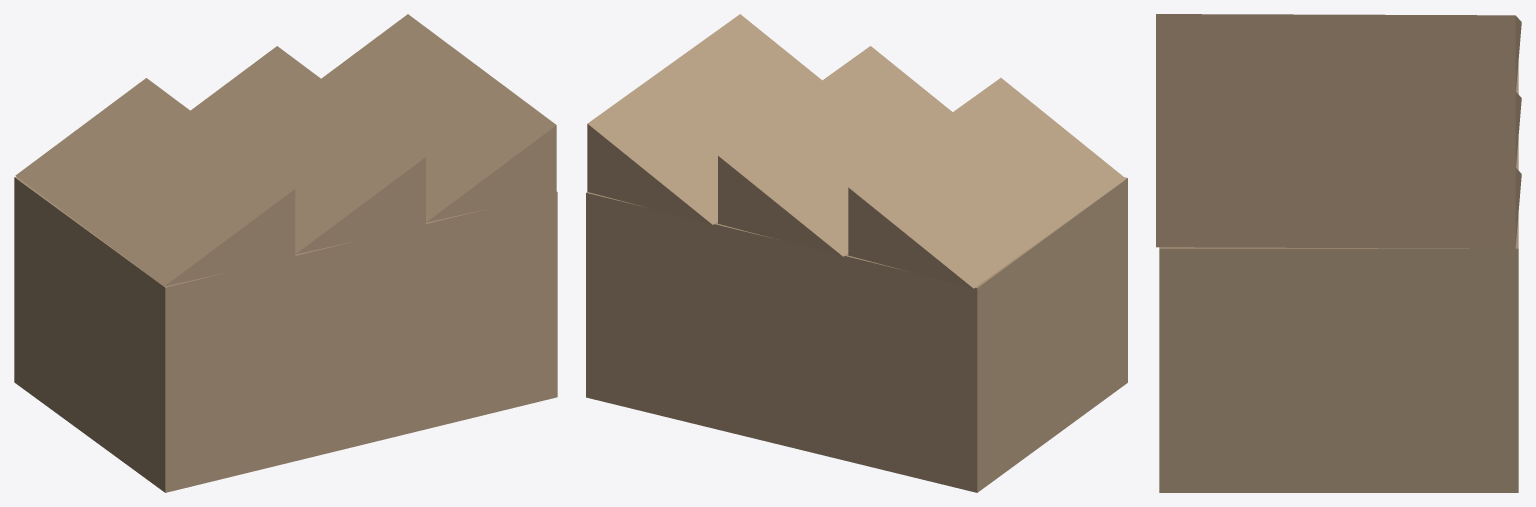
File: Manufactorum.glb
3 views of the same model, side by side, from view 1: azimuth 30°, elevation 25°; view 2: azimuth 150°, elevation 25°; view 3: azimuth 270°, elevation 25° (orthographic). The views are drawn at different scales.
Parts seen in each view (by area): view 1: Mesh_Mesh_head_geo.001_lambert2SG.001; view 2: Mesh_Mesh_head_geo.001_lambert2SG.001; view 3: Mesh_Mesh_head_geo.001_lambert2SG.001.
Part boxes in pixels (<box>): Mesh_Mesh_head_geo.001_lambert2SG.001: <box>14,14,557,492</box>; Mesh_Mesh_head_geo.001_lambert2SG.001: <box>586,14,1127,492</box>; Mesh_Mesh_head_geo.001_lambert2SG.001: <box>1156,14,1521,492</box>.
Bounding box in the file's own units: 30 × 20 × 20.35.
